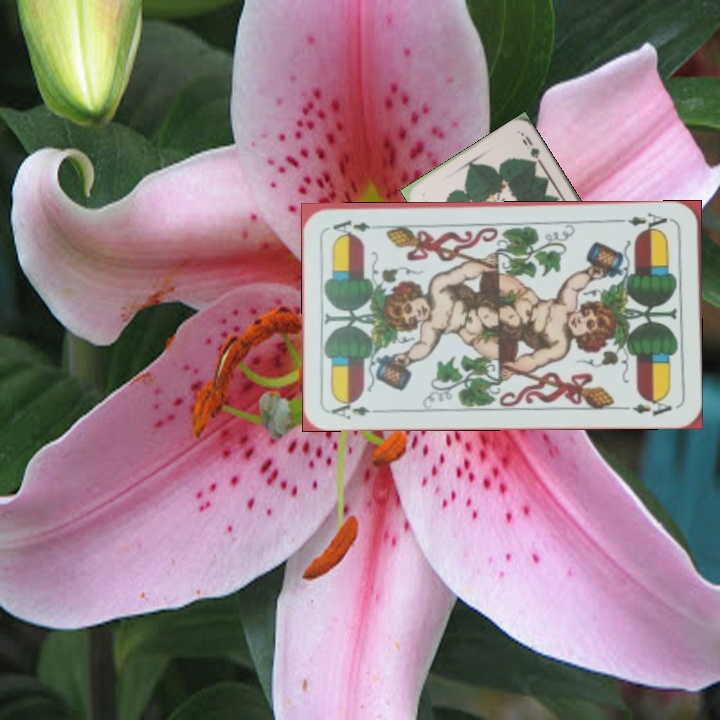EA: (327, 395, 386, 422), (624, 209, 675, 235)
